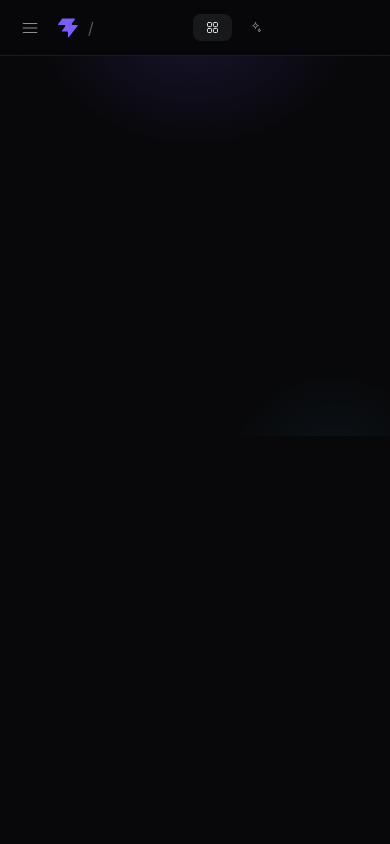
Test: AppShell mobile navigation › opens the side panel as a drawer on phones and routes from it
Step 1. Click the button named "Open menu" → [30, 28], box [12,10,48,46]
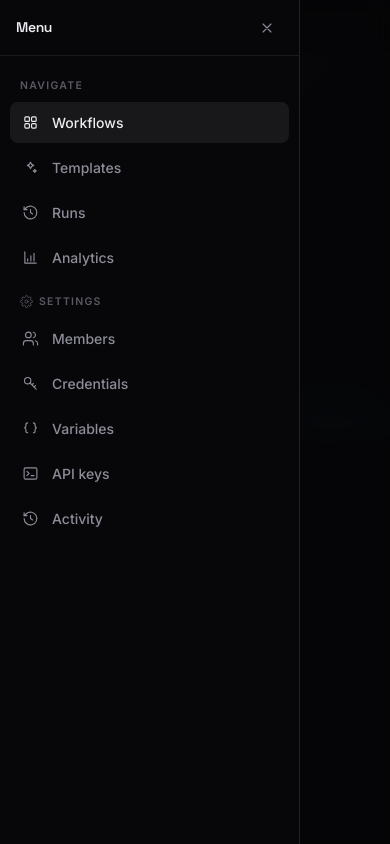
Check: the button "Runs" is shown
Check: the button "Members" is shown, box [10,318,289,358]
Step 2. Click the button "Runs" → [69, 212], box [10,192,289,233]
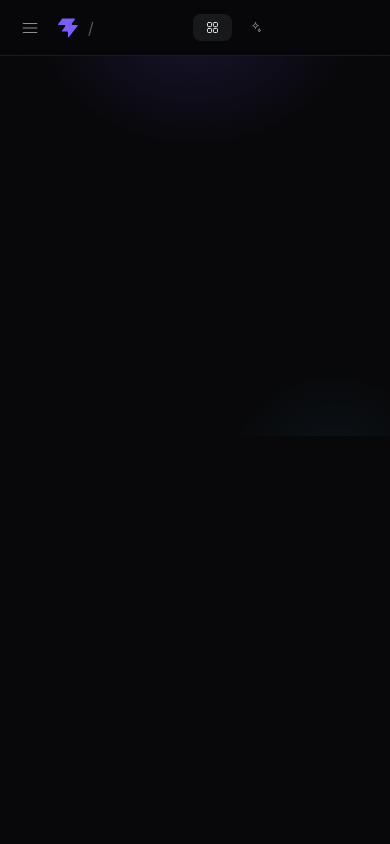
Check: the element with test id "mobile-nav-drawer" is gone
